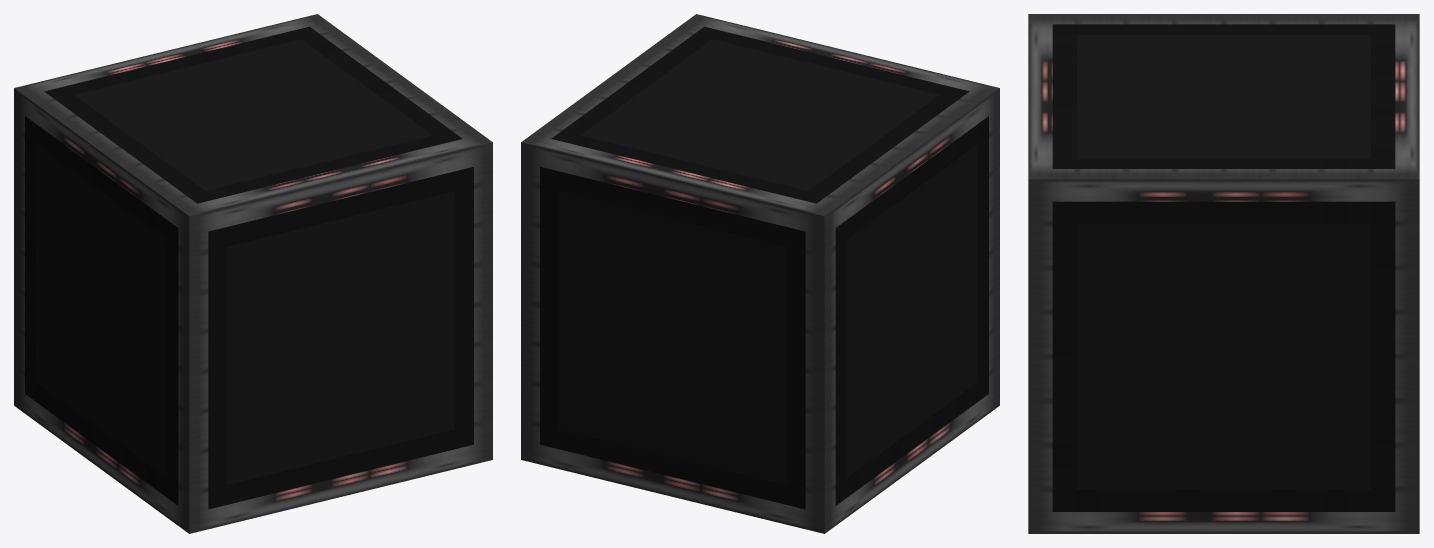
The model's file is casing.obj.
3 renders of one model, left to right at view 1: azimuth 30°, elevation 25°; view 2: azimuth 150°, elevation 25°; view 3: azimuth 270°, elevation 25°, orthographic. The views are drawn at different scales.
Visible parts, largest first — view 1: casing:module.Z_POS, casing:casing, casing:module.X_NEG, casing:module.Y_POS; view 2: casing:module.Z_NEG, casing:casing, casing:module.X_NEG, casing:module.Y_POS; view 3: casing:module.X_POS, casing:module.Y_POS, casing:casing.
Part boxes in pixels (left/top/right/bottom): casing:module.Z_POS: left=208, top=167, right=473, bottom=509; casing:casing: left=14, top=14, right=492, bottom=533; casing:module.X_NEG: left=25, top=116, right=178, bottom=505; casing:module.Y_POS: left=44, top=26, right=462, bottom=203; casing:module.Z_NEG: left=540, top=167, right=805, bottom=509; casing:casing: left=521, top=14, right=999, bottom=533; casing:module.X_NEG: left=835, top=116, right=988, bottom=505; casing:module.Y_POS: left=551, top=26, right=969, bottom=203; casing:module.X_POS: left=1052, top=201, right=1395, bottom=511; casing:module.Y_POS: left=1052, top=24, right=1395, bottom=168; casing:casing: left=1028, top=14, right=1419, bottom=533.
Bounding box in the file's own units: 1 × 1 × 1.
